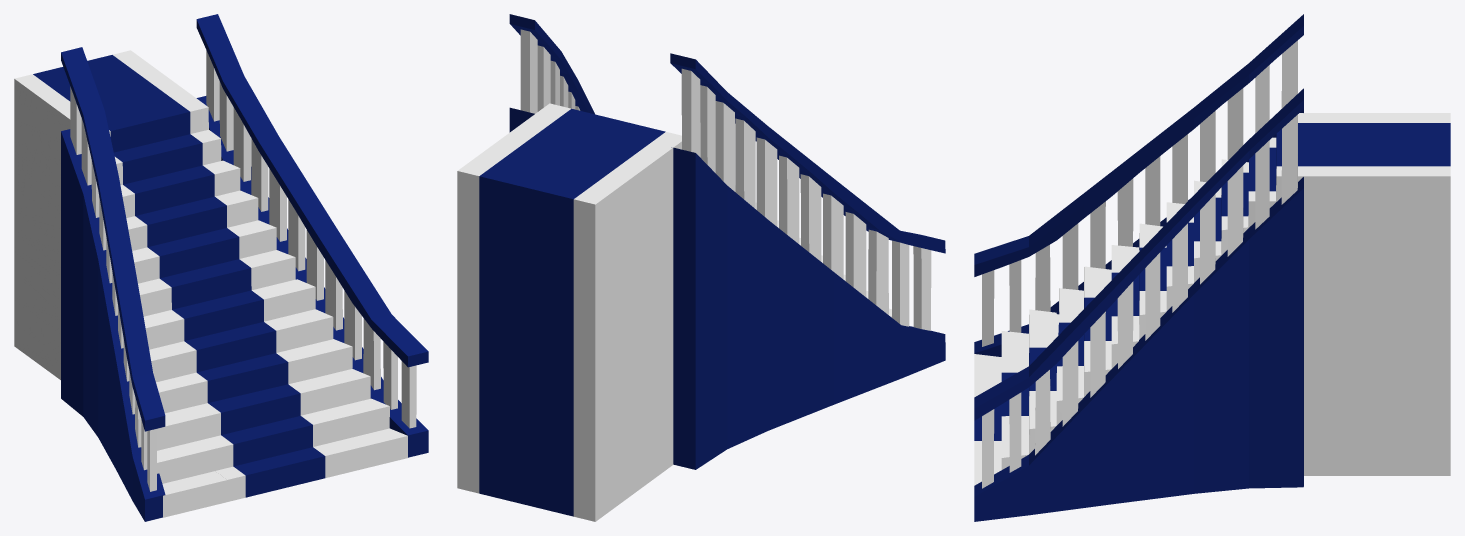
File: eescaleras.fbx
3 renders of one model, left to right at view 1: azimuth 30°, elevation 25°; view 2: azimuth 150°, elevation 25°; view 3: azimuth 270°, elevation 25°, orthographic. The views are drawn at different scales.
Visible parts, largest first — view 1: Object006, Object008, Object007; view 2: Object006, Object008, Object007; view 3: Object007, Object006, Object008.
Part boxes in pixels (x1,y1,x2,y2): Object006: (14,50,407,517); Object008: (61,47,165,521); Object007: (196,14,428,457); Object006: (457,103,891,521); Object008: (670,53,945,469); Object007: (509,14,594,132); Object007: (974,88,1303,521); Object006: (974,113,1450,485); Object008: (974,14,1303,356).
Size of the model in its own units: 340 by 397 by 442.
